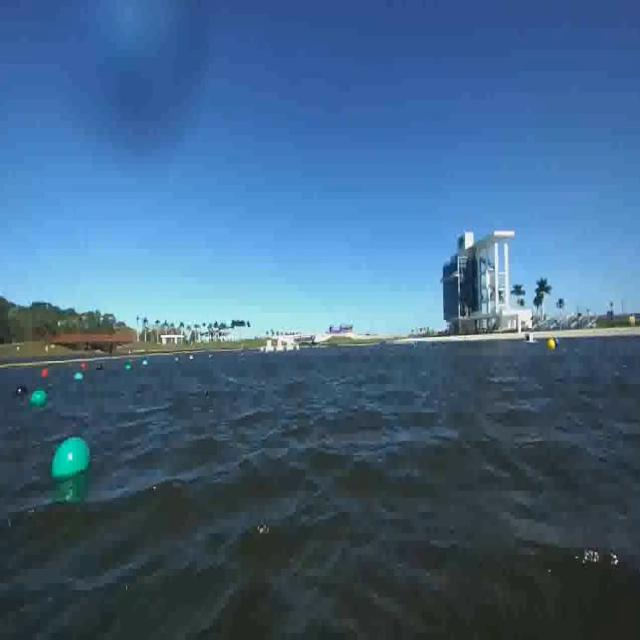black-buoy: (16, 383, 27, 404)
green-buoy: (52, 437, 95, 484), (32, 389, 49, 407)
yellow-buoy: (549, 337, 558, 353)
